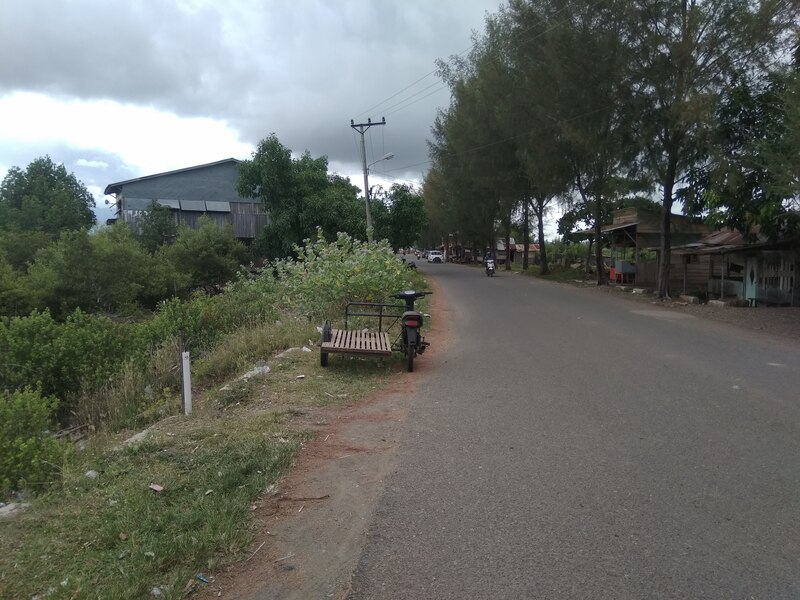becak barang: (316, 285, 441, 374)
